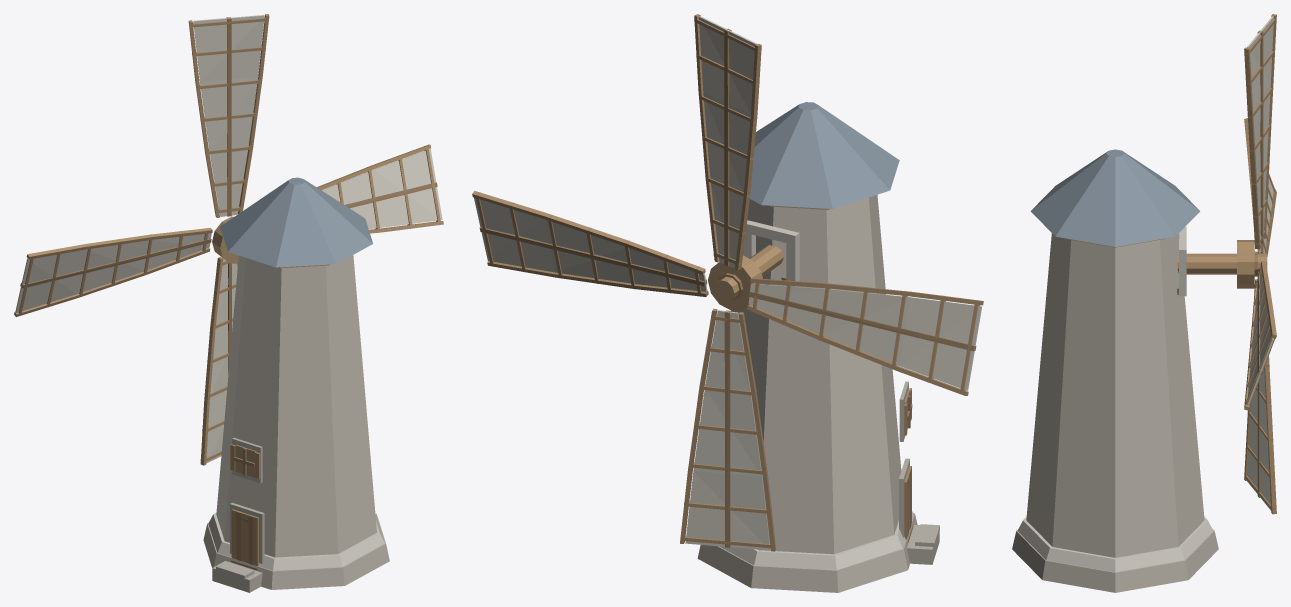
3 renders of one model, left to right at view 1: azimuth 30°, elevation 25°; view 2: azimuth 150°, elevation 25°; view 3: azimuth 270°, elevation 25°, orthographic. The views are drawn at different scales.
Visible parts, largest first — view 1: Body, RotorPivot; view 2: Body, RotorPivot; view 3: Body, RotorPivot.
Boxes of the visible parts, x1,y1,x2,y2 form: Body: (203, 177, 389, 592); RotorPivot: (14, 14, 443, 465); Body: (697, 102, 939, 592); RotorPivot: (472, 14, 983, 551); Body: (1012, 149, 1267, 592); RotorPivot: (1244, 14, 1276, 514).
Bounding box in the file's own units: 12.2 × 13.58 × 6.3.
